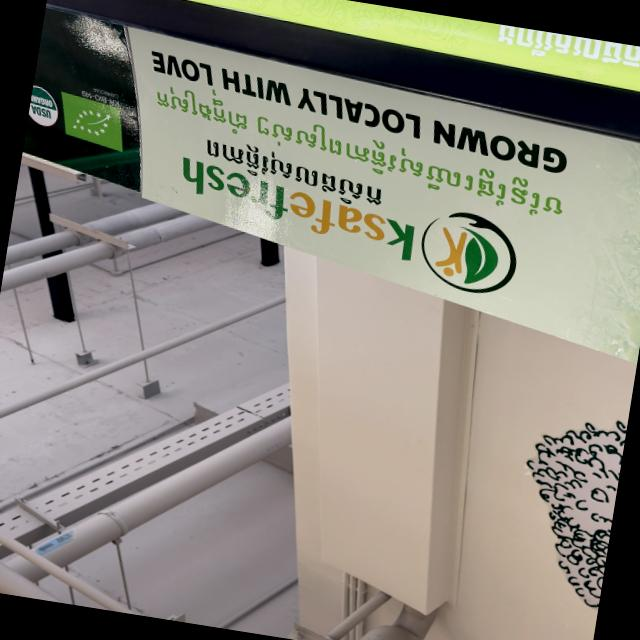1: (147, 79, 583, 235)
Yolov11_80vkh: (192, 131, 397, 218)
